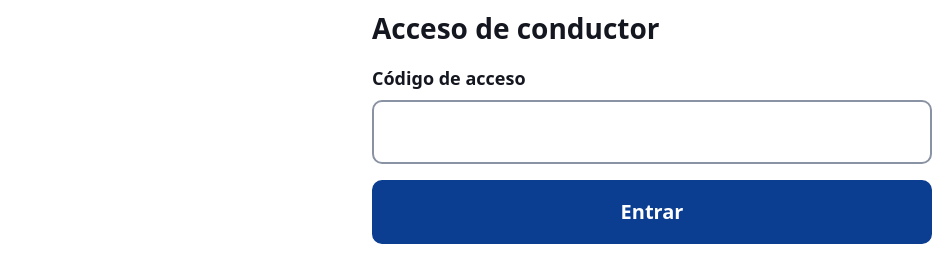
Scenario: LoginPage › [driver_ui.AC-01] with a 201 stores the token only in sessionStorage and goes to /driver/shift
Type "12345678" into the field labelled "Código de acceso" at (652, 132), box [372,100,932,164]
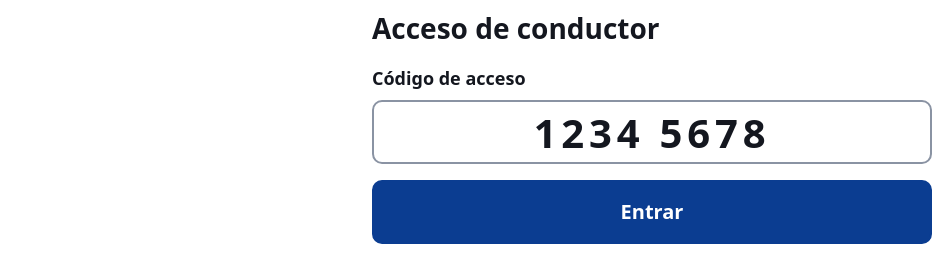
Click the button "Entrar" at (652, 212), box [372,180,932,244]
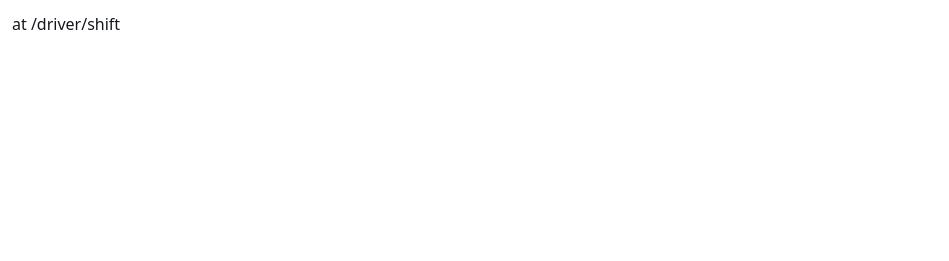
Check: the text "at /driver/shift" is shown, box [12,13,120,35]
